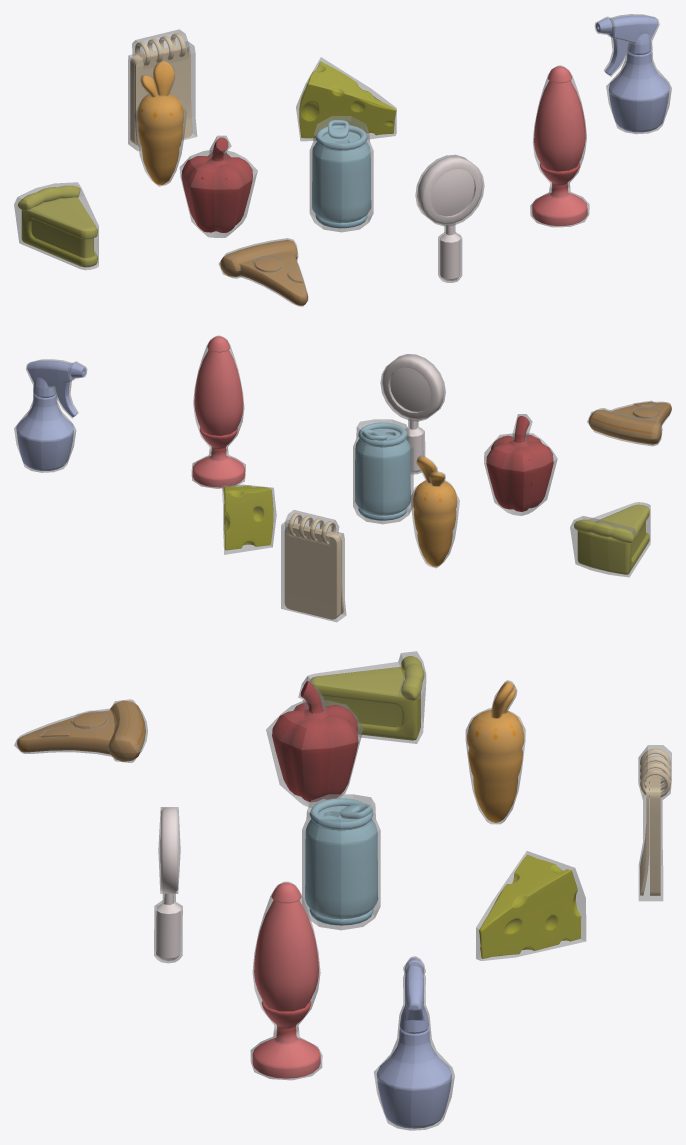
The model's file is Assets_set_2.fbx.
3 views of the same model, one above another, from view 1: azimuth 30°, elevation 25°; view 2: azimuth 150°, elevation 25°; view 3: azimuth 270°, elevation 25° (orthographic). The views are drawn at different scales.
Parts seen in each view (by area): view 1: Lava_lamp_col, Can_col, Lava_lamp, Spra_col2, Can, Pie_col, Spray, Pepper_col, Magnifying_glass__col, Cheeese_col, Pie, Pepper (+8 smaller); view 2: Notebook_col, Lava_lamp_col, Can_col, Lava_lamp, Spra_col2, Notebook, Spray, Can, Pepper_col, Pie_col, Pepper, Magnifying_glass__col (+8 smaller); view 3: Lava_lamp_col, Can_col, Lava_lamp, Cheeese_col, Can, Pepper_col, Spra_col2, Cheese, Pepper, Spray, Pie_col, Pie (+8 smaller).
Part boxes in pixels (bbox=[...]): Lava_lamp_col: bbox=[530, 65, 589, 227]; Can_col: bbox=[309, 116, 373, 232]; Lava_lamp: bbox=[532, 66, 587, 226]; Spra_col2: bbox=[594, 14, 671, 134]; Can: bbox=[312, 120, 371, 228]; Pie_col: bbox=[14, 182, 98, 270]; Spray: bbox=[596, 15, 669, 132]; Pepper_col: bbox=[179, 135, 257, 237]; Magnifying_glass__col: bbox=[415, 154, 484, 282]; Cheeese_col: bbox=[296, 57, 396, 141]; Pie: bbox=[17, 185, 97, 267]; Pepper: bbox=[181, 137, 252, 232]; Notebook_col: bbox=[281, 510, 346, 622]; Lava_lamp_col: bbox=[191, 335, 245, 488]; Can_col: bbox=[353, 419, 413, 524]; Lava_lamp: bbox=[192, 336, 244, 487]; Spra_col2: bbox=[14, 359, 87, 472]; Notebook: bbox=[284, 513, 344, 619]; Spray: bbox=[16, 360, 85, 470]; Can: bbox=[355, 422, 410, 520]; Pepper_col: bbox=[484, 414, 557, 515]; Pie_col: bbox=[570, 502, 650, 577]; Pepper: bbox=[486, 416, 553, 511]; Magnifying_glass__col: bbox=[380, 354, 445, 474]; Lava_lamp_col: bbox=[250, 881, 322, 1080]; Can_col: bbox=[302, 794, 380, 930]; Lava_lamp: bbox=[252, 882, 320, 1078]; Cheeese_col: bbox=[476, 851, 586, 960]; Can: bbox=[305, 798, 378, 925]; Pepper_col: bbox=[266, 676, 363, 807]; Spra_col2: bbox=[374, 956, 454, 1130]; Cheese: bbox=[479, 854, 581, 958]; Pepper: bbox=[272, 681, 358, 801]; Spray: bbox=[376, 958, 452, 1128]; Pie_col: bbox=[307, 651, 426, 743]; Pie: bbox=[310, 656, 424, 740].
Bounding box in the file's own units: 1704 × 411 × 1215.
